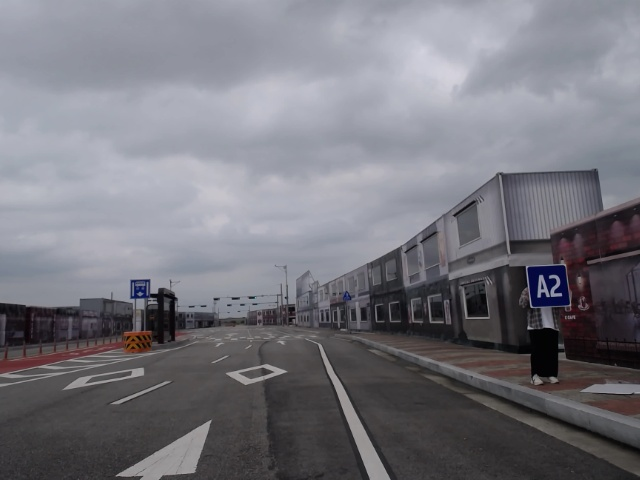delivery_a2: (527, 264, 571, 309)
